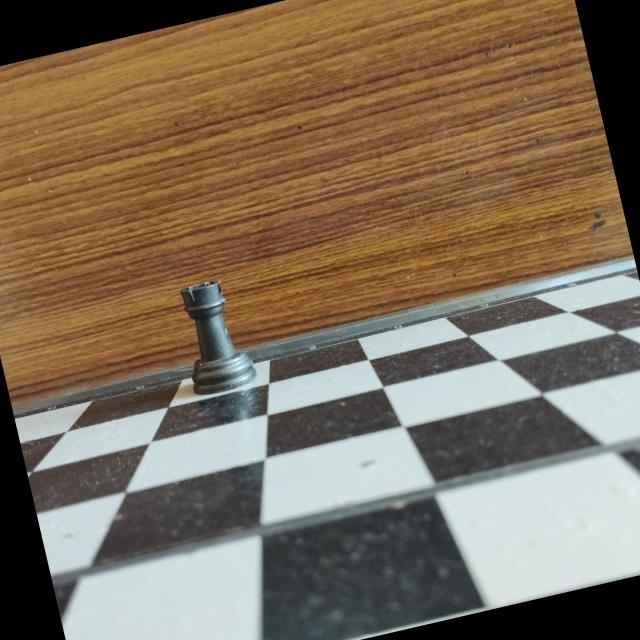Black Rook: (166, 268, 264, 404)
